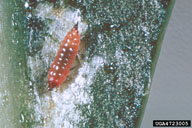Thrips: (50, 19, 84, 93)
